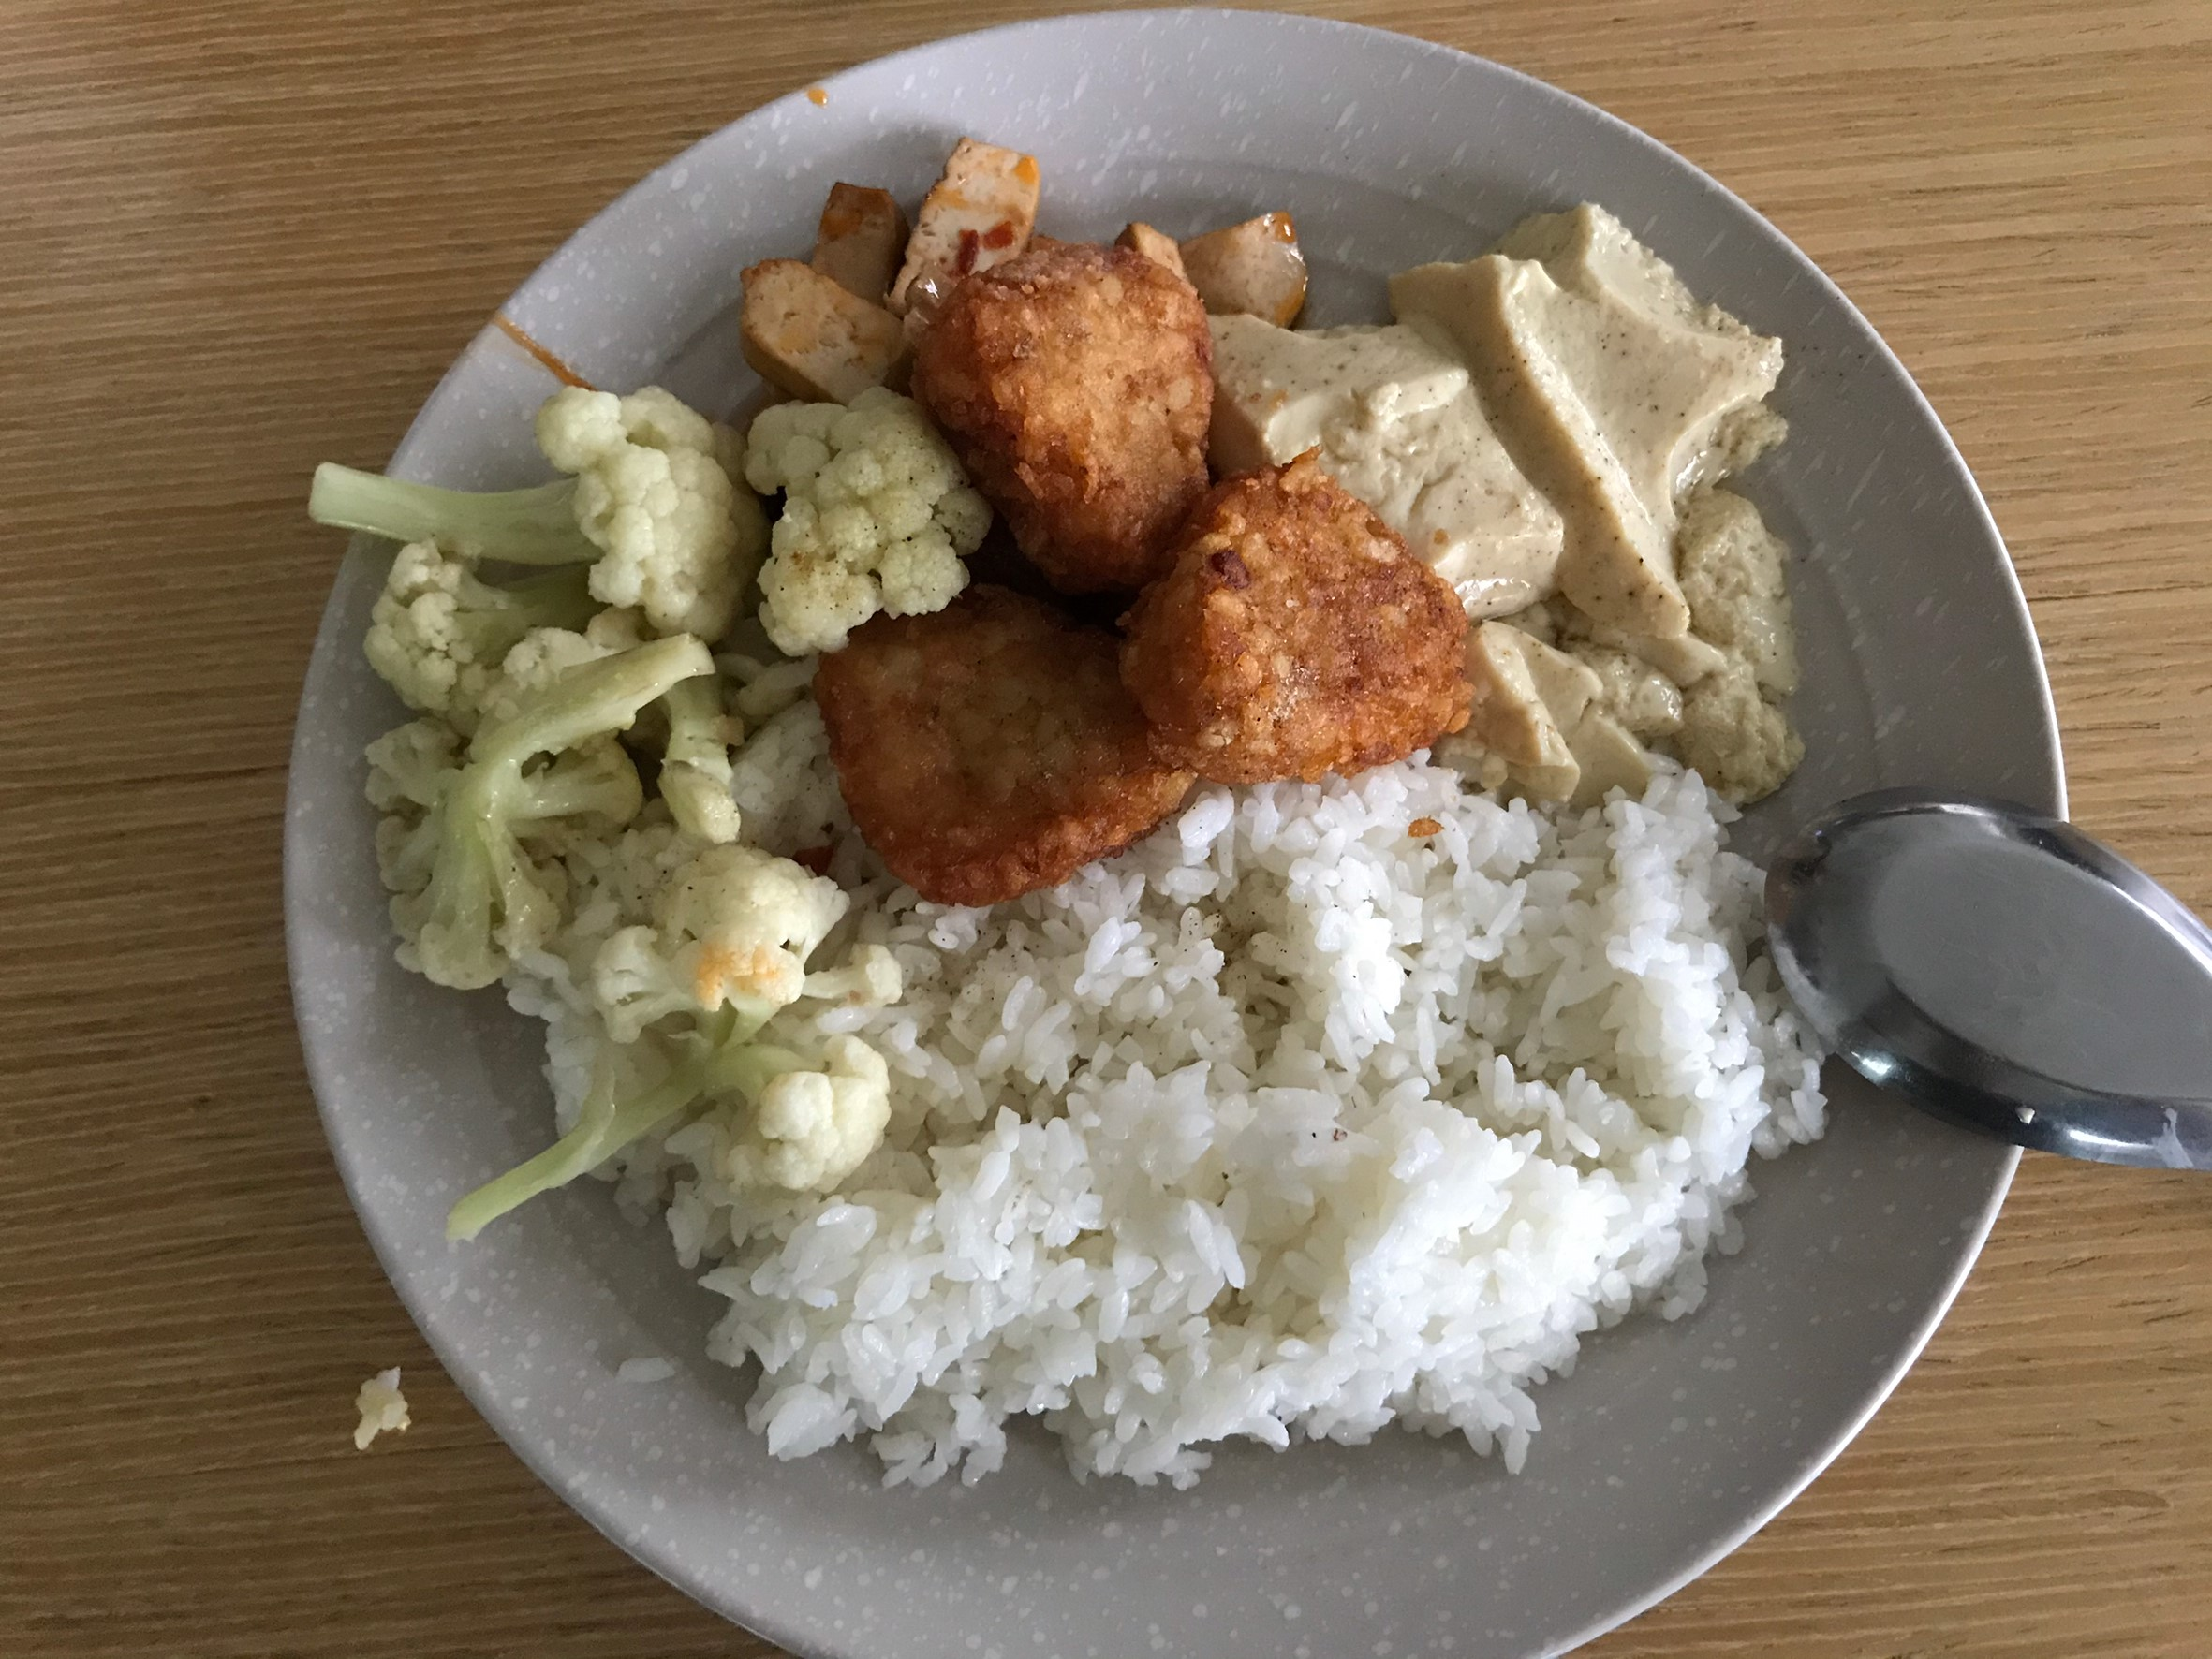rice: (507, 727, 1837, 1497)
triangle_hash_brown: (826, 246, 1475, 910)
